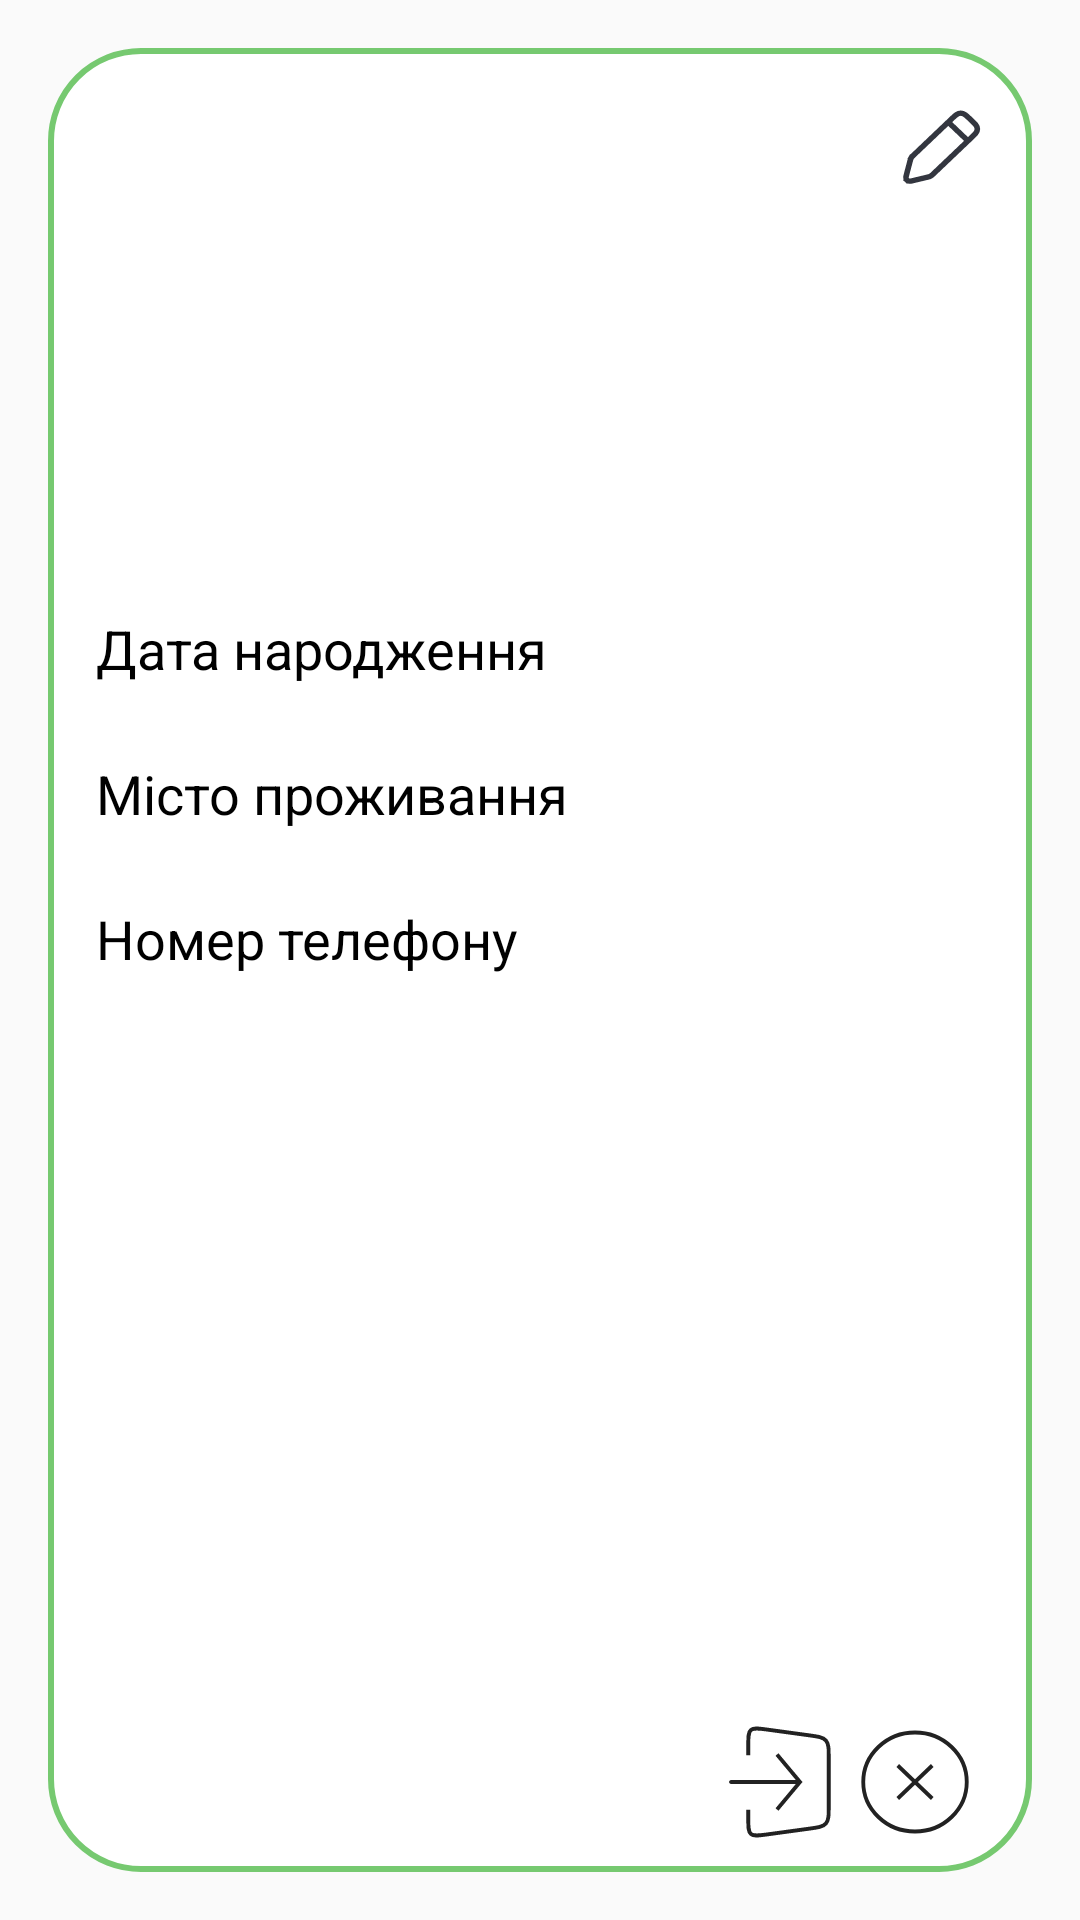

Where icons sit on this 1080w x 1920h app screen, as (x1, y1, x2, y2):
dell acc: (861, 1730, 969, 1834)
exit acc: (729, 1726, 831, 1838)
